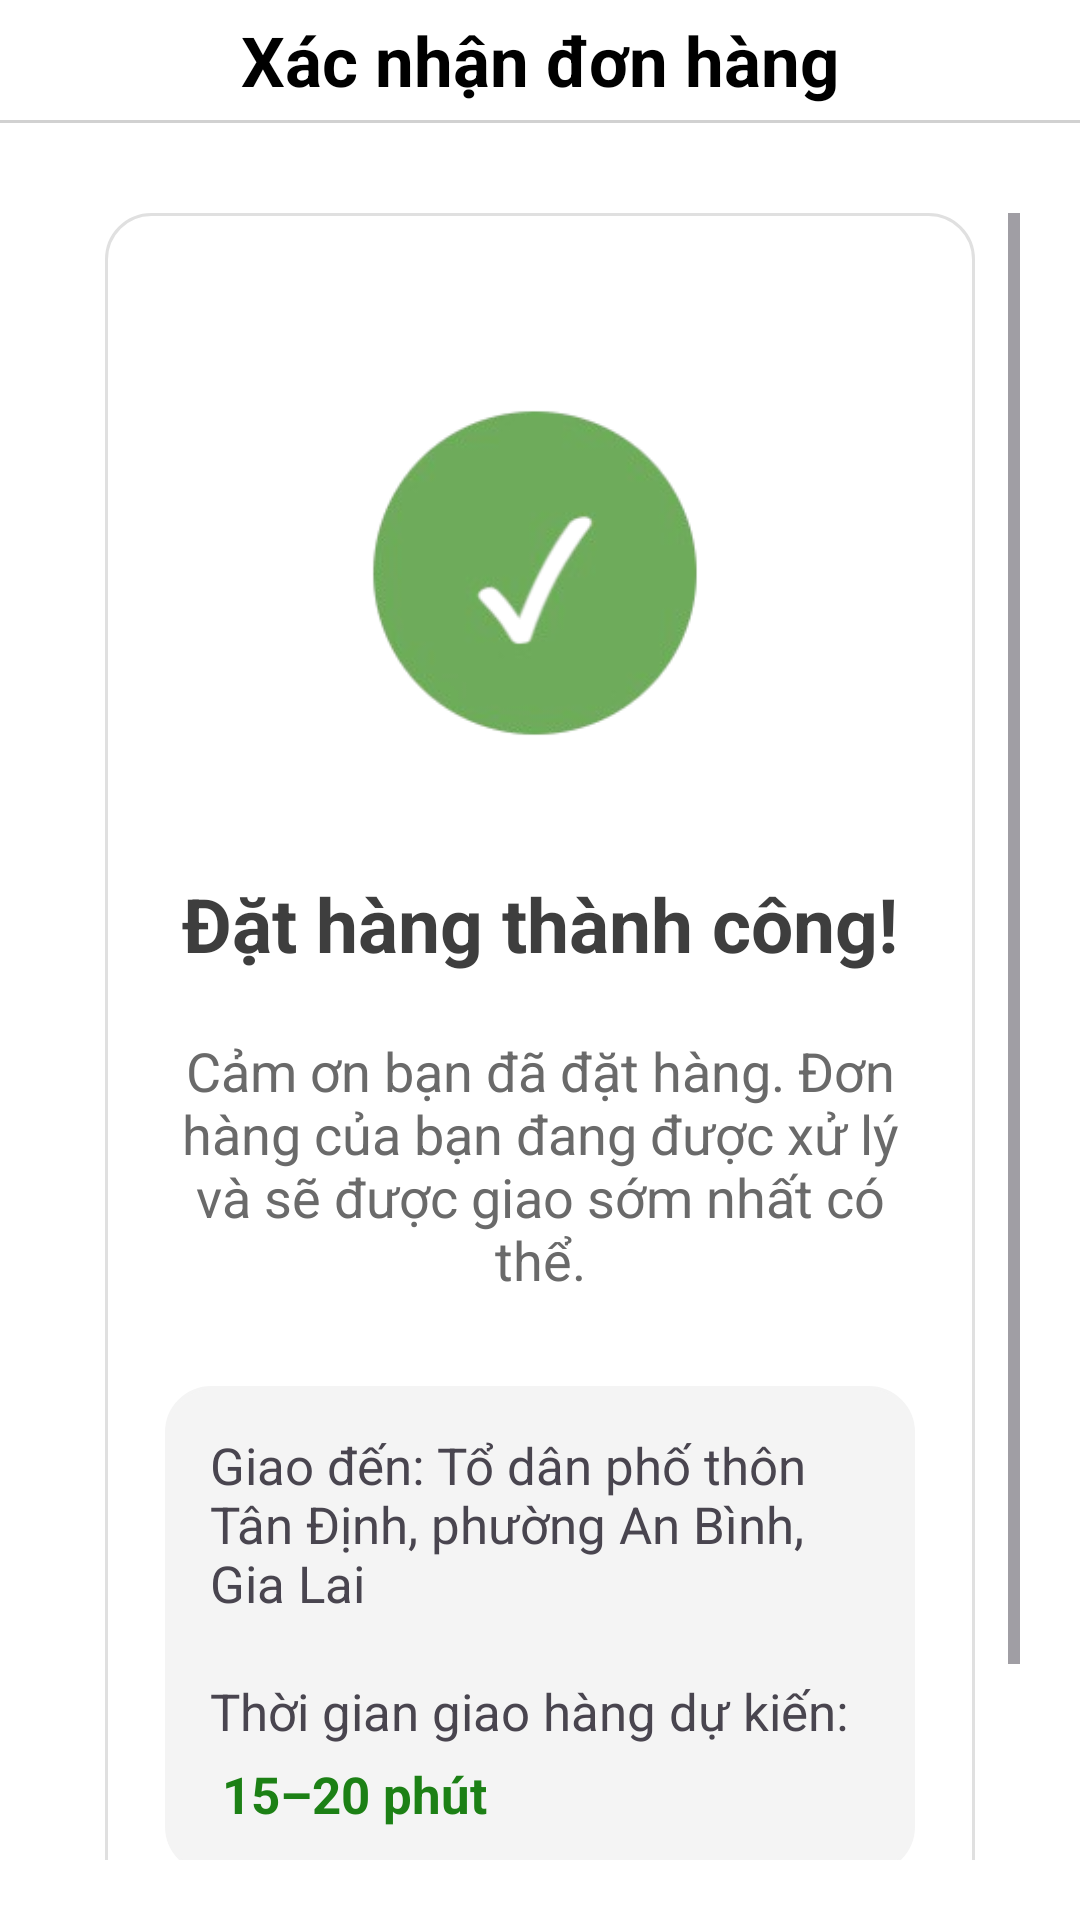

Icon bounding boxes for this 1080*1920 phone screenshot, format (x1, y1, x2, y2):
success: (373, 411, 697, 735)
